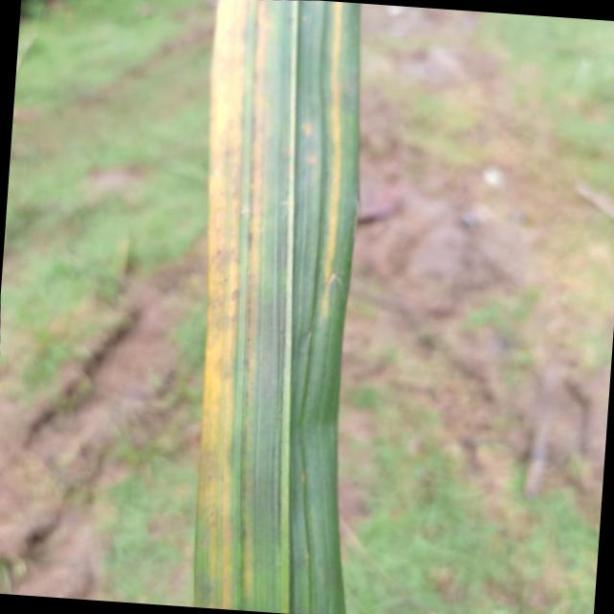Megnesium: (192, 0, 363, 614)
